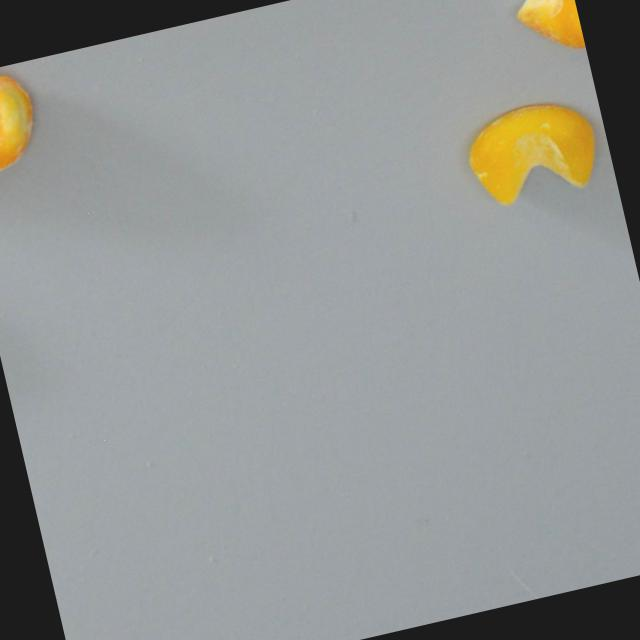dañado: (0, 59, 53, 176), (507, 0, 586, 65)
pelicula: (452, 87, 614, 220)
